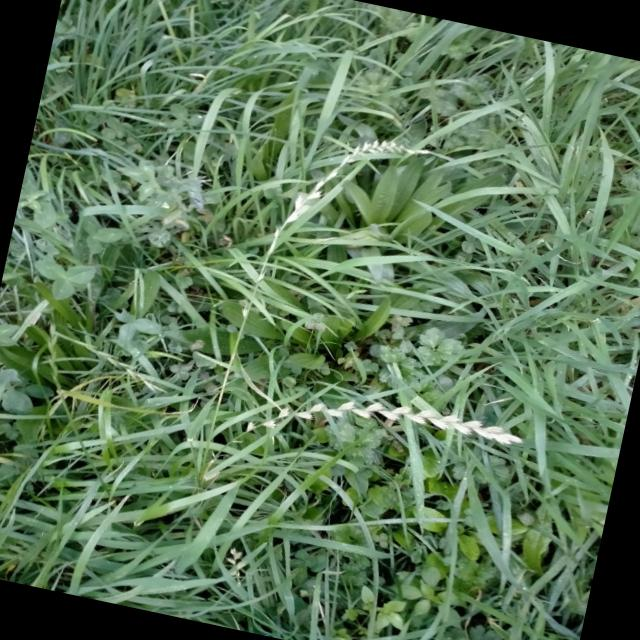Lolium: (238, 118, 440, 352), (222, 368, 534, 514)
